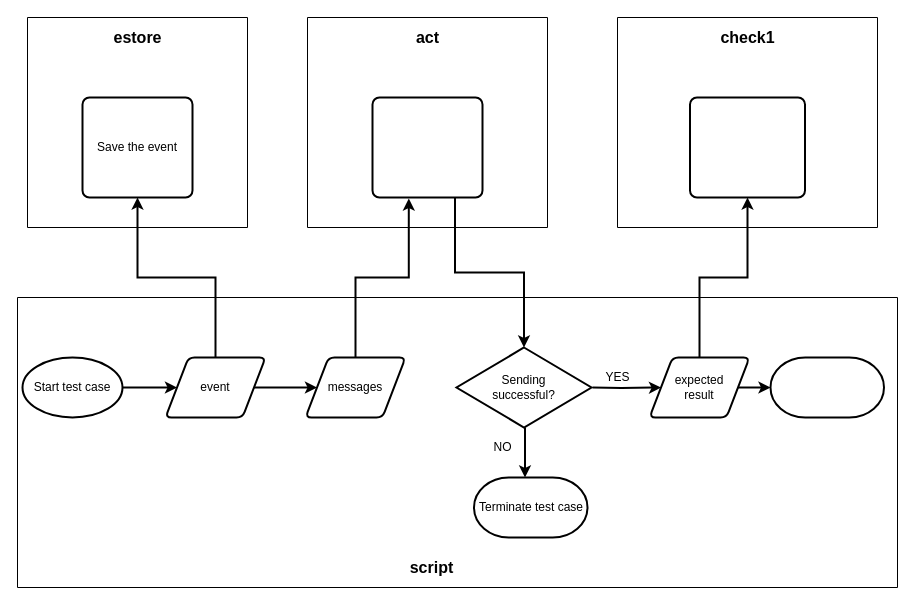
This 915x605 diagram has some shape labels left out. The shapes that lost their labels are listed below. From the top down, each one's box as (x1, y1, x2, y2) in pixels, then its label:
(371, 96, 483, 198): Sending the message (request)
(688, 96, 806, 198): Verify the messages (responses)
(769, 356, 884, 418): End test case
